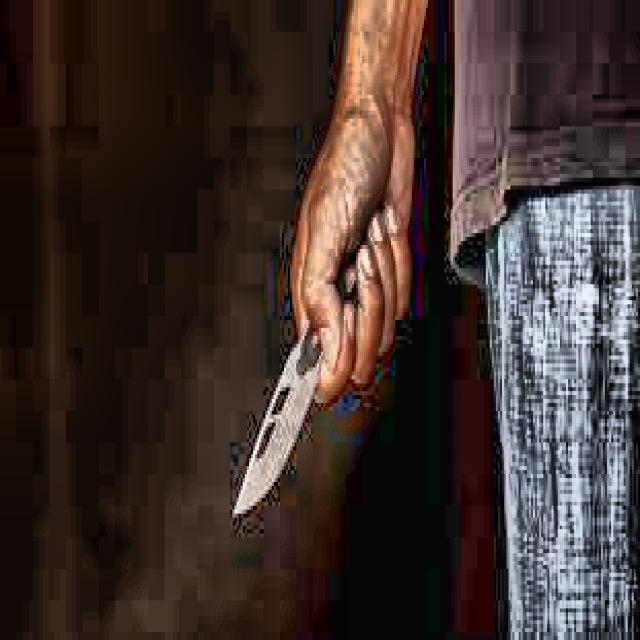knife: (233, 214, 393, 514)
